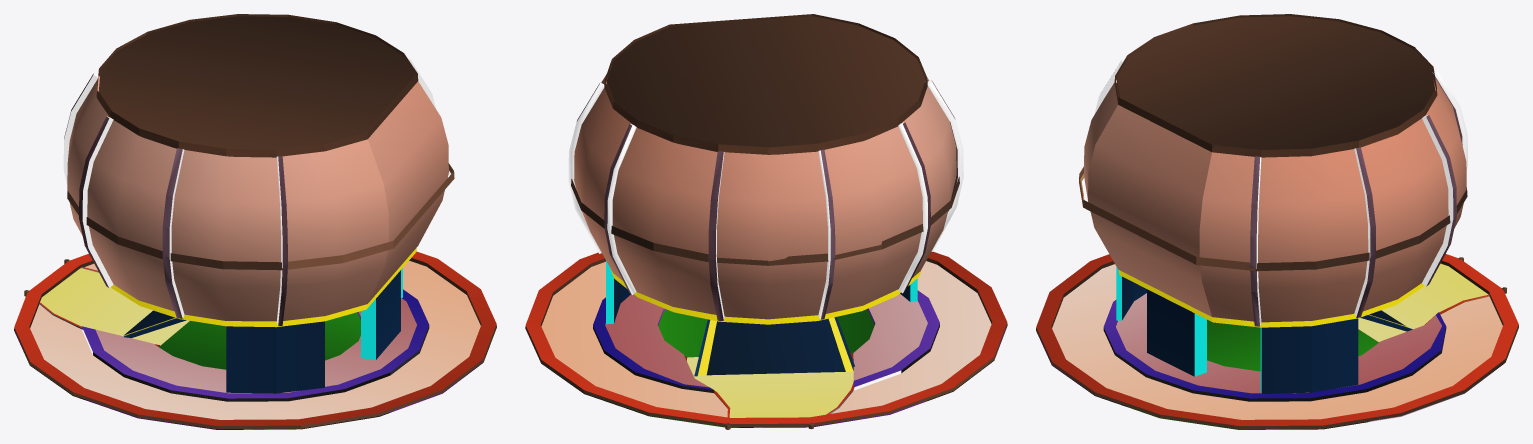
Rendered from Mall_Ext.glb.
3 renders of one model, left to right at view 1: azimuth 30°, elevation 25°; view 2: azimuth 150°, elevation 25°; view 3: azimuth 270°, elevation 25°, orthographic.
Parts seen in each view (by area): view 1: Mall_Ext; view 2: Mall_Ext; view 3: Mall_Ext.
Boxes of the visible parts, x1,y1,x2,y2 form: Mall_Ext: (14, 14, 496, 429); Mall_Ext: (525, 14, 1007, 429); Mall_Ext: (1036, 14, 1518, 429).
Bounding box in the file's own units: 85.1 × 50.08 × 86.19.
3 materials, 3 textured.
